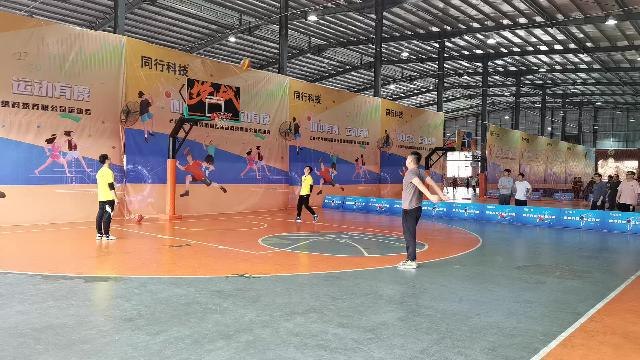ball: (241, 57, 251, 69), (134, 214, 142, 222)
basket: (210, 111, 232, 127)
